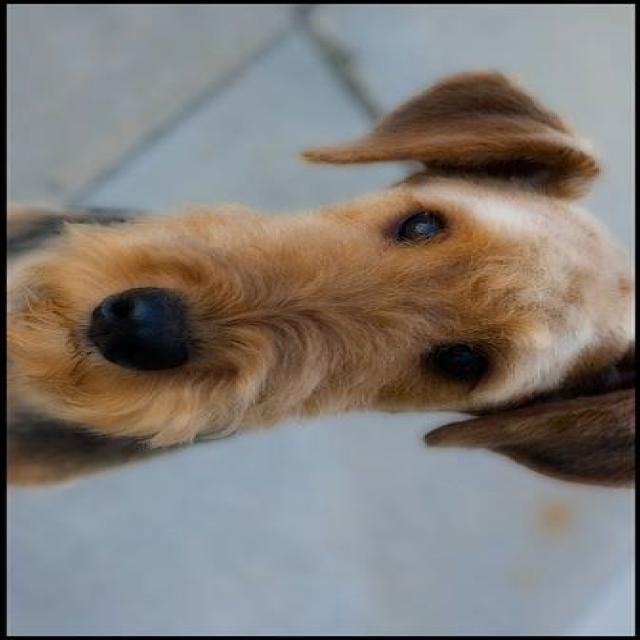airedale: (2, 70, 636, 490)
